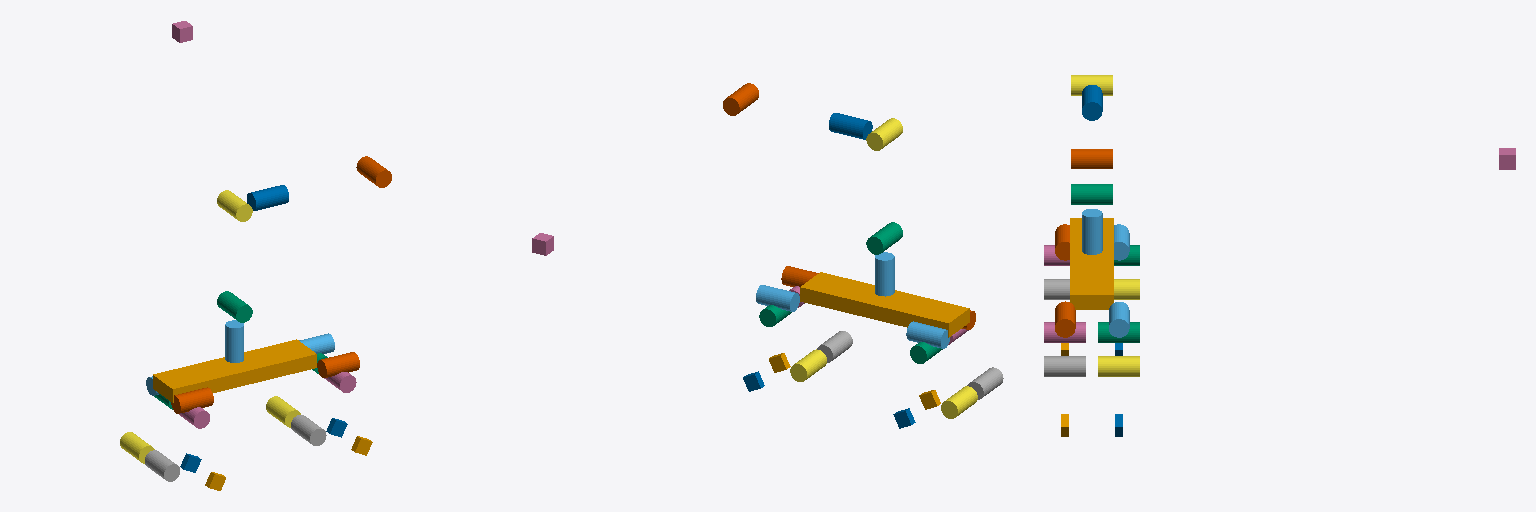
The robot description file, URDF, robot "quadruped_arm_robot":
<robot name="quadruped_arm_robot">

  
  <link name="chasis_link"><inertial><mass value="1.6" /><origin xyz="0 0 0.02" /><inertia ixx="0.01" iyy="0.01" izz="0.01" ixy="0" ixz="0" iyz="0" /></inertial><visual><geometry><box size="0.435 0.105 0.04" /></geometry></visual><collision><geometry><box size="0.435 0.105 0.04" /></geometry></collision></link><link name="frontLeft_hip_motor"><inertial><mass value="0.15800" /><origin xyz="0 0 0" /><inertia ixx="0.00016" iyy="0.00016" izz="0.00016" ixy="0" ixz="0" iyz="0" /></inertial><collision><geometry><cylinder radius="0.025" length="0.1" /></geometry></collision><visual><geometry><cylinder radius="0.025" length="0.1" /></geometry></visual></link>
  <joint name="frontLeft_hip_motor_joint" type="revolute">
    <parent link="chasis_link" />
    <child link="frontLeft_hip_motor" />
    <origin xyz="0.275 0.065 -0.02" rpy="0 1.5708  0" />
    <axis xyz="0 0 1" />
    <limit lower="-3.14" upper="3.14" effort="5.8842" velocity="1.0" />
  </joint>

  <link name="frontLeft_knee"><inertial><mass value="0.15800" /><origin xyz="0 0 0" /><inertia ixx="0.00016" iyy="0.00016" izz="0.00016" ixy="0" ixz="0" iyz="0" /></inertial><collision><geometry><cylinder radius="0.025" length="0.1" /></geometry></collision><visual><geometry><cylinder radius="0.025" length="0.1" /></geometry></visual></link>
  <joint name="frontLeft_knee_joint" type="revolute">
    <parent link="frontLeft_hip_motor" />
    <child link="frontLeft_knee" />
    <origin xyz="0.035 0 0" rpy="1.5708 0.6 0" />
    <axis xyz="0 0 1" />
    <limit lower="-1.57" upper="1.57" effort="5.8842" velocity="1.0" />
    
  </joint>

  <link name="frontLeft_ankle"><inertial><mass value="0.15800" /><origin xyz="0 0 0" /><inertia ixx="0.00016" iyy="0.00016" izz="0.00016" ixy="0" ixz="0" iyz="0" /></inertial><collision><geometry><cylinder radius="0.025" length="0.1" /></geometry></collision><visual><geometry><cylinder radius="0.025" length="0.1" /></geometry></visual></link>
  <joint name="frontLeft_ankle_joint" type="revolute">
    <parent link="frontLeft_knee" />
    <child link="frontLeft_ankle" />
    <origin xyz="0.16 -0.0000 0" rpy="0 0 1.7" />
    <axis xyz="0 0 1" />
    <limit lower="-3.14" upper="3.14" effort="5.8842" velocity="1.0" />
  </joint>

  <link name="frontLeft_foot"><inertial><mass value="0.01892" /><origin xyz="0 0 0" /><inertia ixx="0.00002" iyy="0.00002" izz="0.00002" ixy="0" ixz="0" iyz="0" /></inertial><collision><geometry><box size="0.04 0.04 0.02" /></geometry></collision><visual><geometry><box size="0.04 0.04 0.02" /></geometry></visual></link>
  <joint name="frontLeft_foot_joint" type="fixed">
    <parent link="frontLeft_ankle" />
    <child link="frontLeft_foot" />
    <origin xyz="0.18 0 0" rpy="0 0 0" />
  </joint>

  

  <link name="frontRight_hip_motor"><inertial><mass value="0.15800" /><origin xyz="0 0 0" /><inertia ixx="0.00016" iyy="0.00016" izz="0.00016" ixy="0" ixz="0" iyz="0" /></inertial><collision><geometry><cylinder radius="0.025" length="0.1" /></geometry></collision><visual><geometry><cylinder radius="0.025" length="0.1" /></geometry></visual></link>
  <joint name="frontRight_hip_motor_joint" type="revolute">
    <parent link="chasis_link" />
    <child link="frontRight_hip_motor" />
    <origin xyz="0.275 -0.065 -0.02" rpy="0 1.5708  0" />
    <axis xyz="0 0 1" />
    <limit lower="-3.14" upper="3.14" effort="5.8842" velocity="1.0" />
  </joint>

  <link name="frontRight_knee"><inertial><mass value="0.15800" /><origin xyz="0 0 0" /><inertia ixx="0.00016" iyy="0.00016" izz="0.00016" ixy="0" ixz="0" iyz="0" /></inertial><collision><geometry><cylinder radius="0.025" length="0.1" /></geometry></collision><visual><geometry><cylinder radius="0.025" length="0.1" /></geometry></visual></link>
  <joint name="frontRight_knee_joint" type="revolute">
    <parent link="frontRight_hip_motor" />
    <child link="frontRight_knee" />
    <origin xyz="0.035 0 0" rpy="1.5708 0.6   0" />
    <axis xyz="0 0 1" />
    <limit lower="-1.57" upper="1.57" effort="5.8842" velocity="1.0" />
  </joint>

  <link name="frontRight_ankle"><inertial><mass value="0.15800" /><origin xyz="0 0 0" /><inertia ixx="0.00016" iyy="0.00016" izz="0.00016" ixy="0" ixz="0" iyz="0" /></inertial><collision><geometry><cylinder radius="0.025" length="0.1" /></geometry></collision><visual><geometry><cylinder radius="0.025" length="0.1" /></geometry></visual></link>
  <joint name="frontRight_ankle_joint" type="revolute">
    <parent link="frontRight_knee" />
    <child link="frontRight_ankle" />
    <origin xyz="0.16 0 0" rpy="0 0 1.7" />
    <axis xyz="0 0 1" />
    <limit lower="-3.14" upper="3.14" effort="5.8842" velocity="1.0" />
  </joint>

  <link name="frontRight_foot"><inertial><mass value="0.01892" /><origin xyz="0 0 0" /><inertia ixx="0.00002" iyy="0.00002" izz="0.00002" ixy="0" ixz="0" iyz="0" /></inertial><collision><geometry><box size="0.04 0.04 0.02" /></geometry></collision><visual><geometry><box size="0.04 0.04 0.02" /></geometry></visual></link>
  <joint name="frontRight_foot_joint" type="fixed">
    <parent link="frontRight_ankle" />
    <child link="frontRight_foot" />
    <origin xyz="0.18 0 0" rpy="0 0 0" />
  </joint>

  
 

  <link name="backLeft_hip_motor"><inertial><mass value="0.15800" /><origin xyz="0 0 0" /><inertia ixx="0.00016" iyy="0.00016" izz="0.00016" ixy="0" ixz="0" iyz="0" /></inertial><collision><geometry><cylinder radius="0.025" length="0.1" /></geometry></collision><visual><geometry><cylinder radius="0.025" length="0.1" /></geometry></visual></link>
  <joint name="backLeft_hip_motor_joint" type="revolute">
    <parent link="chasis_link" />
    <child link="backLeft_hip_motor" />
     <origin xyz="-0.165 0.065 -0.02" rpy="0 1.5708  0" />
    <axis xyz="0 0 1" />
    <limit lower="-3.14" upper="3.14" effort="5.8842" velocity="1.0" />
  </joint>

  <link name="backLeft_knee"><inertial><mass value="0.15800" /><origin xyz="0 0 0" /><inertia ixx="0.00016" iyy="0.00016" izz="0.00016" ixy="0" ixz="0" iyz="0" /></inertial><collision><geometry><cylinder radius="0.025" length="0.1" /></geometry></collision><visual><geometry><cylinder radius="0.025" length="0.1" /></geometry></visual></link>
  <joint name="backLeft_knee_joint" type="revolute">
    <parent link="backLeft_hip_motor" />
    <child link="backLeft_knee" />
    <origin xyz="0.035  0 0" rpy="1.5708 0.6 0" />
    <axis xyz="0 0 1" />
    <limit lower="-1.57" upper="1.57" effort="5.8842" velocity="1.0" />
  </joint>

  <link name="backLeft_ankle"><inertial><mass value="0.15800" /><origin xyz="0 0 0" /><inertia ixx="0.00016" iyy="0.00016" izz="0.00016" ixy="0" ixz="0" iyz="0" /></inertial><collision><geometry><cylinder radius="0.025" length="0.1" /></geometry></collision><visual><geometry><cylinder radius="0.025" length="0.1" /></geometry></visual></link>
  <joint name="backLeft_ankle_joint" type="revolute">
    <parent link="backLeft_knee" />
    <child link="backLeft_ankle" />
    <origin xyz="0.16 -0.0000 0" rpy="0 0 1.7" />
    <axis xyz="0 0 1" />
    <limit lower="-3.14" upper="3.14" effort="5.8842" velocity="1.0" />
  </joint>

  <link name="backLeft_foot"><inertial><mass value="0.01892" /><origin xyz="0 0 0" /><inertia ixx="0.00002" iyy="0.00002" izz="0.00002" ixy="0" ixz="0" iyz="0" /></inertial><collision><geometry><box size="0.04 0.04 0.02" /></geometry></collision><visual><geometry><box size="0.04 0.04 0.02" /></geometry></visual></link>
  <joint name="backLeft_foot_joint" type="fixed">
    <parent link="backLeft_ankle" />
    <child link="backLeft_foot" />
    <origin xyz="0.18 0 0" rpy="0 0 0" />
  </joint>

  

  <link name="backRight_hip_motor"><inertial><mass value="0.15800" /><origin xyz="0 0 0" /><inertia ixx="0.00016" iyy="0.00016" izz="0.00016" ixy="0" ixz="0" iyz="0" /></inertial><collision><geometry><cylinder radius="0.025" length="0.1" /></geometry></collision><visual><geometry><cylinder radius="0.025" length="0.1" /></geometry></visual></link>
  <joint name="backRight_hip_motor_joint" type="revolute">
    <parent link="chasis_link" />
    <child link="backRight_hip_motor" />
    <origin xyz="-0.165 -0.065 -0.02" rpy="0 1.5708  0" />
    <axis xyz="0 0 1" />
    <limit lower="-3.14" upper="3.14" effort="5.8842" velocity="1.0" />
  </joint>

  <link name="backRight_knee"><inertial><mass value="0.15800" /><origin xyz="0 0 0" /><inertia ixx="0.00016" iyy="0.00016" izz="0.00016" ixy="0" ixz="0" iyz="0" /></inertial><collision><geometry><cylinder radius="0.025" length="0.1" /></geometry></collision><visual><geometry><cylinder radius="0.025" length="0.1" /></geometry></visual></link>
  <joint name="backRight_knee_joint" type="revolute">
    <parent link="backRight_hip_motor" />
    <child link="backRight_knee" />
    <origin xyz="0.035 0 0" rpy="1.5708 0.6   0" />
    <axis xyz="0 0 1" />
    <limit lower="-1.57" upper="1.57" effort="5.8842" velocity="1.0" />
  </joint>

  <link name="backRight_ankle"><inertial><mass value="0.15800" /><origin xyz="0 0 0" /><inertia ixx="0.00016" iyy="0.00016" izz="0.00016" ixy="0" ixz="0" iyz="0" /></inertial><collision><geometry><cylinder radius="0.025" length="0.1" /></geometry></collision><visual><geometry><cylinder radius="0.025" length="0.1" /></geometry></visual></link>
  <joint name="backRight_ankle_joint" type="revolute">
    <parent link="backRight_knee" />
    <child link="backRight_ankle" />
    <origin xyz="0.16 0 0" rpy="0 0 1.7" />
    <axis xyz="0 0 1" />
    <limit lower="-3.14" upper="3.14" effort="5.8842" velocity="1.0" />
  </joint>

  <link name="backRight_foot"><inertial><mass value="0.01892" /><origin xyz="0 0 0" /><inertia ixx="0.00002" iyy="0.00002" izz="0.00002" ixy="0" ixz="0" iyz="0" /></inertial><collision><geometry><box size="0.04 0.04 0.02" /></geometry></collision><visual><geometry><box size="0.04 0.04 0.02" /></geometry></visual></link>
  <joint name="backRight_foot_joint" type="fixed">
    <parent link="backRight_ankle" />
    <child link="backRight_foot" />
    <origin xyz="0.18 0 0" rpy="0 0 0" />
  </joint>

  
  <link name="M0_big"><inertial><mass value="0.670" /><origin xyz="0 0 0" /><inertia ixx="0.00016" iyy="0.00016" izz="0.00016" ixy="0" ixz="0" iyz="0" /></inertial><collision><geometry><cylinder radius="0.025" length="0.1" /></geometry></collision><visual><geometry><cylinder radius="0.025" length="0.1" /></geometry></visual></link>
  <joint name="articulacion1" type="revolute">
    <parent link="chasis_link" />
    <child link="M0_big" />
    <origin xyz="0 0 0.085" rpy="0 0 0" />
    <axis xyz="0 0 1" />
    <limit lower="-3.14" upper="3.14" effort="9.807" velocity="1.0" />
  </joint>

  <link name="M1_100"><inertial><mass value="0.15800" /><origin xyz="0 0 0" /><inertia ixx="0.00016" iyy="0.00016" izz="0.00016" ixy="0" ixz="0" iyz="0" /></inertial><collision><geometry><cylinder radius="0.025" length="0.1" /></geometry></collision><visual><geometry><cylinder radius="0.025" length="0.1" /></geometry></visual></link>
  <joint name="articulacion2" type="revolute">
    <parent link="M0_big" />
    <child link="M1_100" />
    <origin xyz="0.0 0 0.1" rpy="-1.5708 0 0" />
    <axis xyz="0 0 1" />
    <limit lower="-3.14" upper="3.14" effort=" 5.8842" velocity="1.0" />
  </joint>


  <link name="M2_100"><inertial><mass value="0.15800" /><origin xyz="0 0 0" /><inertia ixx="0.00016" iyy="0.00016" izz="0.00016" ixy="0" ixz="0" iyz="0" /></inertial><collision><geometry><cylinder radius="0.025" length="0.1" /></geometry></collision><visual><geometry><cylinder radius="0.025" length="0.1" /></geometry></visual></link>
  <joint name="articulacion3" type="revolute">
    <parent link="M1_100" />
    <child link="M2_100" />
    <origin xyz="0.0 -0.29  0  " rpy="0 0 0" />
    <axis xyz="0 0 1" />
    <limit lower="-3.14" upper="3.14" effort=" 5.8842" velocity="1.0" />
  </joint>

  <link name="M3_50"><inertial><mass value="0.15800" /><origin xyz="0 0 0" /><inertia ixx="0.00016" iyy="0.00016" izz="0.00016" ixy="0" ixz="0" iyz="0" /></inertial><collision><geometry><cylinder radius="0.025" length="0.1" /></geometry></collision><visual><geometry><cylinder radius="0.025" length="0.1" /></geometry></visual></link>
  <joint name="articulacion4" type="revolute">
    <parent link="M2_100" />
    <child link="M3_50" />
    <origin xyz="0.1 0.0000 0" rpy=" 0 1.5708 0" />
    <axis xyz="0 0 1" />
    <limit lower="-3.14" upper="3.14" effort=" 5.8842" velocity="1.0" />
  </joint>

  <link name="M4_50"><inertial><mass value="0.15800" /><origin xyz="0 0 0" /><inertia ixx="0.00016" iyy="0.00016" izz="0.00016" ixy="0" ixz="0" iyz="0" /></inertial><collision><geometry><cylinder radius="0.025" length="0.1" /></geometry></collision><visual><geometry><cylinder radius="0.025" length="0.1" /></geometry></visual></link>
  <joint name="articulacion5" type="revolute">
    <parent link="M3_50" />
    <child link="M4_50" />
    <origin xyz="0 0 0.32" rpy="0 -1.5708 0" />
    <axis xyz="0 0 1" />
    <limit lower="-3.14" upper="3.14" effort="5.8842" velocity="1.0" />
  </joint>

  <link name="endEfector"><inertial><mass value="0.03000" /><origin xyz="0 0 0" /><inertia ixx="0.00003" iyy="0.00003" izz="0.00003" ixy="0" ixz="0" iyz="0" /></inertial><collision><geometry><box size="0.04 0.04 0.04" /></geometry></collision><visual><geometry><box size="0.04 0.04 0.04" /></geometry></visual></link>
  <joint name="endEfectorJoin" type="fixed">
    <parent link="M4_50" />
    <child link="endEfector" />
    <origin xyz="0.0 0 1" rpy="0 0 0" />
  </joint>



</robot>

--- Render facts (derived) ---
3 views of the same robot in one strip: view 1: azimuth 30°, elevation 25°; view 2: azimuth 150°, elevation 25°; view 3: azimuth 270°, elevation 25° (orthographic).
Model quadruped_arm_robot with 23 links and 22 joints (17 revolute, 5 fixed), rooted at chasis_link, posed all joints at 0.
Visible links, largest first — view 1: chasis_link, M0_big, frontRight_hip_motor, M3_50, backRight_hip_motor, M2_100, M1_100, backRight_ankle, M4_50, frontRight_ankle, frontLeft_ankle, backLeft_ankle; view 2: chasis_link, M0_big, frontLeft_hip_motor, M3_50, backLeft_hip_motor, backLeft_ankle, M2_100, M4_50, frontLeft_ankle, M1_100, backRight_ankle, frontRight_ankle; view 3: chasis_link, M0_big, frontLeft_ankle, frontRight_ankle, M1_100, M4_50, M2_100, M3_50, frontRight_hip_motor, frontLeft_hip_motor, frontLeft_knee, frontRight_knee (+3 smaller).
Boxes of the visible links, x1,y1,x2,y2 form: chasis_link: (153, 339, 316, 402); M0_big: (225, 320, 243, 362); frontRight_hip_motor: (317, 352, 359, 377); M3_50: (247, 185, 288, 210); backRight_hip_motor: (171, 387, 213, 413); M2_100: (217, 190, 252, 221); M1_100: (217, 291, 252, 322); backRight_ankle: (145, 450, 179, 481); M4_50: (356, 156, 391, 187); frontRight_ankle: (291, 415, 326, 445); frontLeft_ankle: (266, 396, 300, 427); backLeft_ankle: (120, 432, 154, 463); chasis_link: (800, 272, 969, 337); M0_big: (875, 252, 894, 296); frontLeft_hip_motor: (756, 285, 799, 311); M3_50: (829, 113, 872, 139); backLeft_hip_motor: (906, 321, 949, 348); backLeft_ankle: (941, 386, 977, 418); M2_100: (866, 118, 902, 150); M4_50: (723, 83, 758, 115); frontLeft_ankle: (790, 349, 826, 381); M1_100: (866, 222, 902, 254); backRight_ankle: (967, 367, 1003, 399); frontRight_ankle: (817, 331, 852, 362); chasis_link: (1070, 218, 1113, 309); M0_big: (1082, 209, 1102, 254); frontLeft_ankle: (1098, 356, 1139, 376); frontRight_ankle: (1044, 356, 1085, 376); M1_100: (1071, 184, 1112, 204); M4_50: (1071, 149, 1112, 168); M2_100: (1071, 75, 1112, 95); M3_50: (1082, 85, 1102, 120); frontRight_hip_motor: (1055, 301, 1075, 337); frontLeft_hip_motor: (1109, 302, 1129, 337); frontLeft_knee: (1098, 322, 1139, 342); frontRight_knee: (1044, 322, 1085, 342).
Size in the robot's own frame: 0.7253 by 1.14 by 0.7956 metres.
Geometry: primitives only (box / cylinder / sphere), no mesh files.